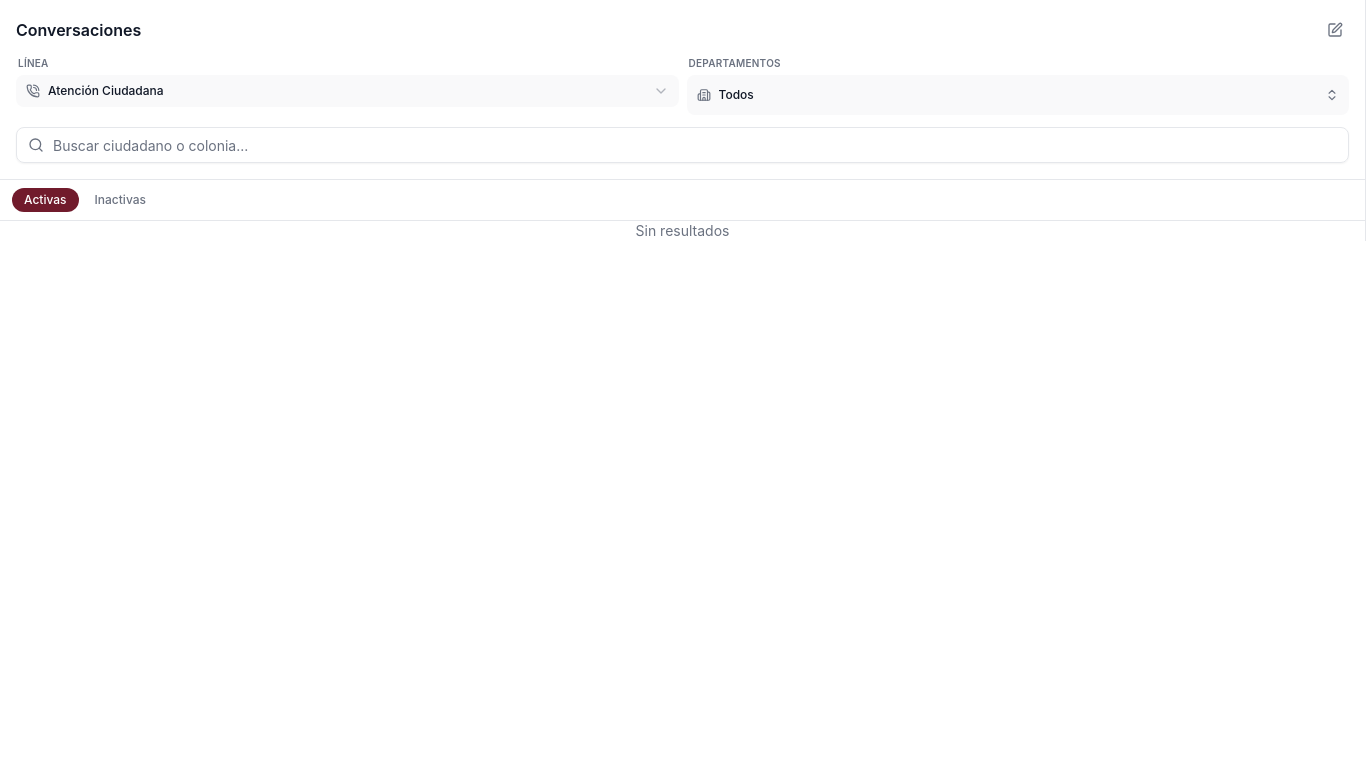
Test case: ChatList — filtros › muestra el grupo "Agentes de IA" con "Todos los bots" y los agentes activos
Click the button with aria-label "Seleccionar departamentos".
click(736, 94)  # box [686,75,1349,115]
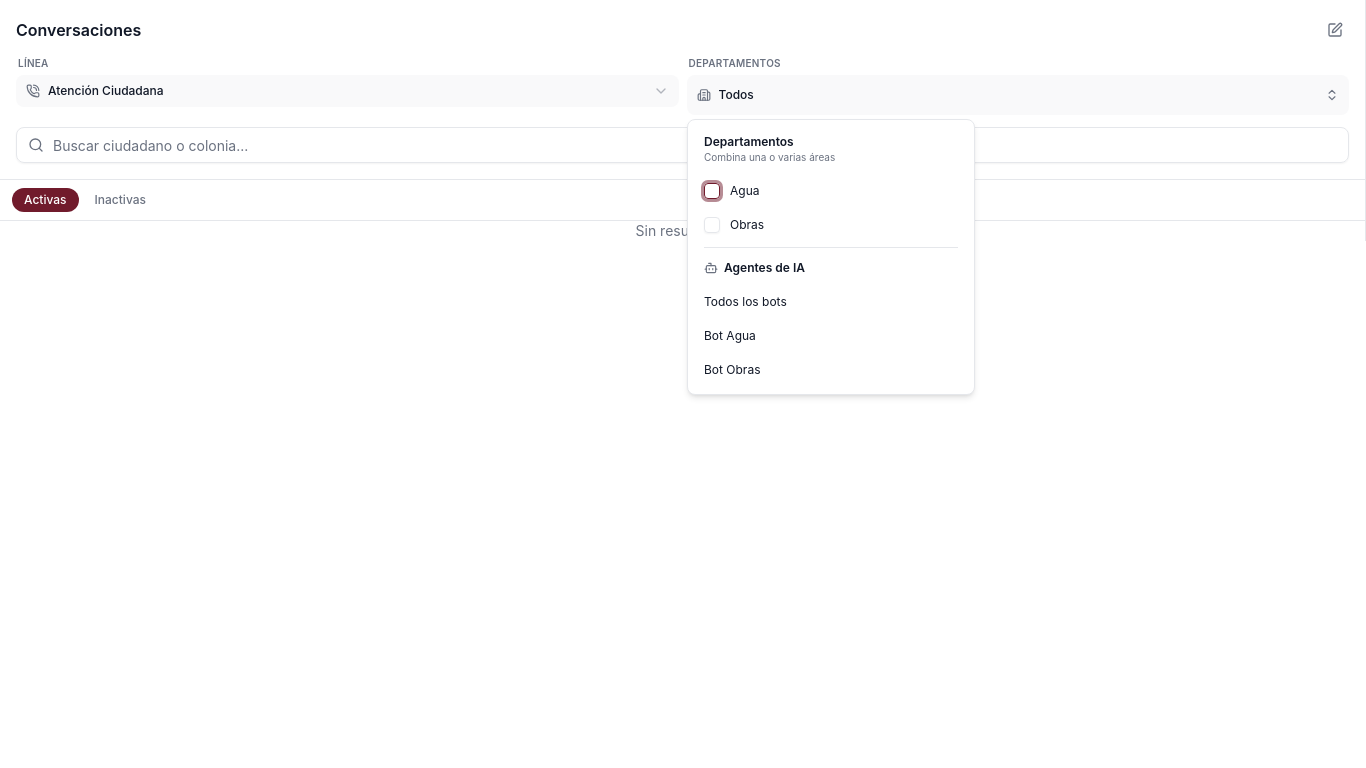
Expected: the text "Agentes de IA" is shown, [704,260,805,276]
Expected: the checkbox labelled "Todos los bots" is shown, [696,286,966,318]
Expected: the checkbox labelled "Bot Agua" is shown, [696,320,966,352]
